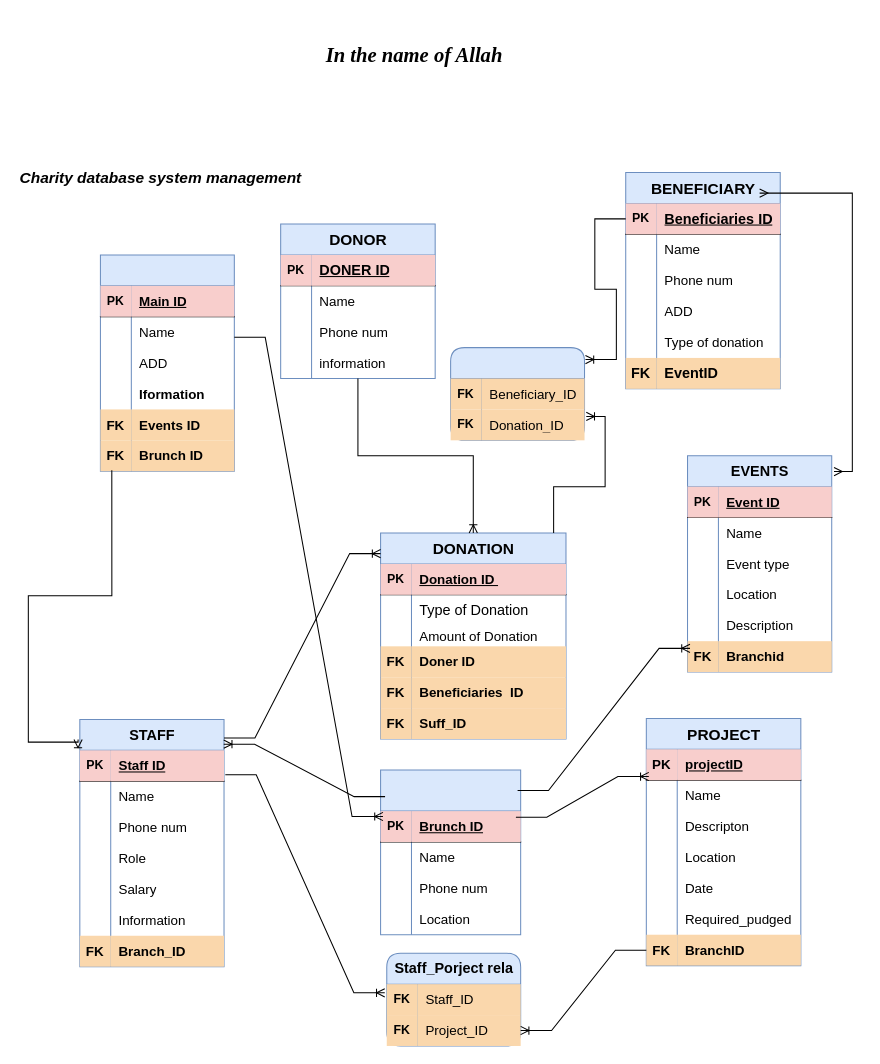
The diagram is 880 pixels wide and 1064 high, and some of its shapes have lost their labels. The shapes that lost their labels are listed below. From the top down, each one's box as (x1, y1, x2, y2) in pixels, then its label:
(99, 254, 234, 471): EVENT_CHARITY
(450, 347, 585, 440): BEN_DON
(380, 769, 521, 935): BRANCH
